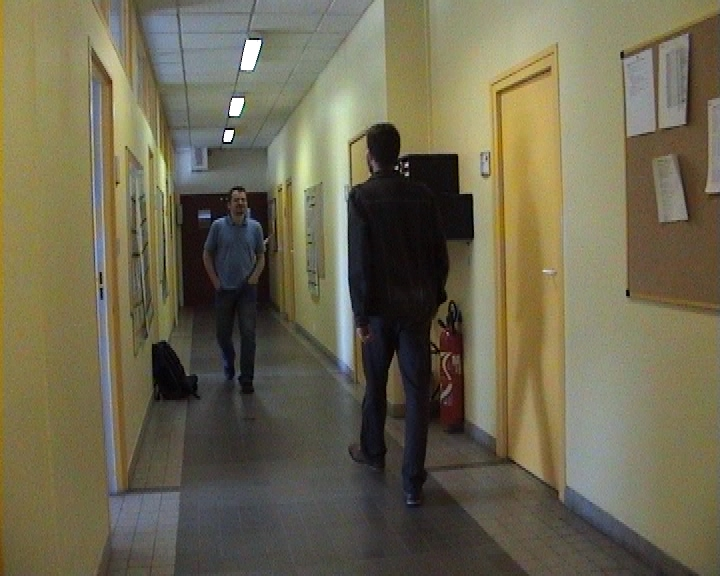leave bag unattended: (133, 274, 275, 441)
